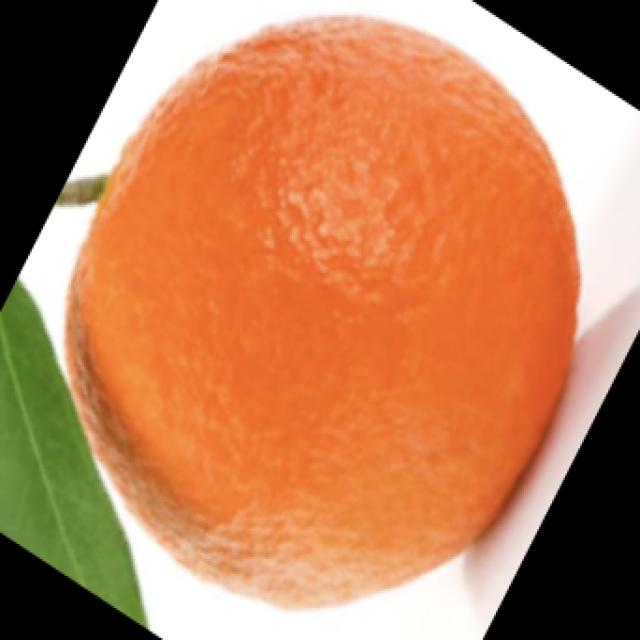fresh: (0, 1, 591, 608)
